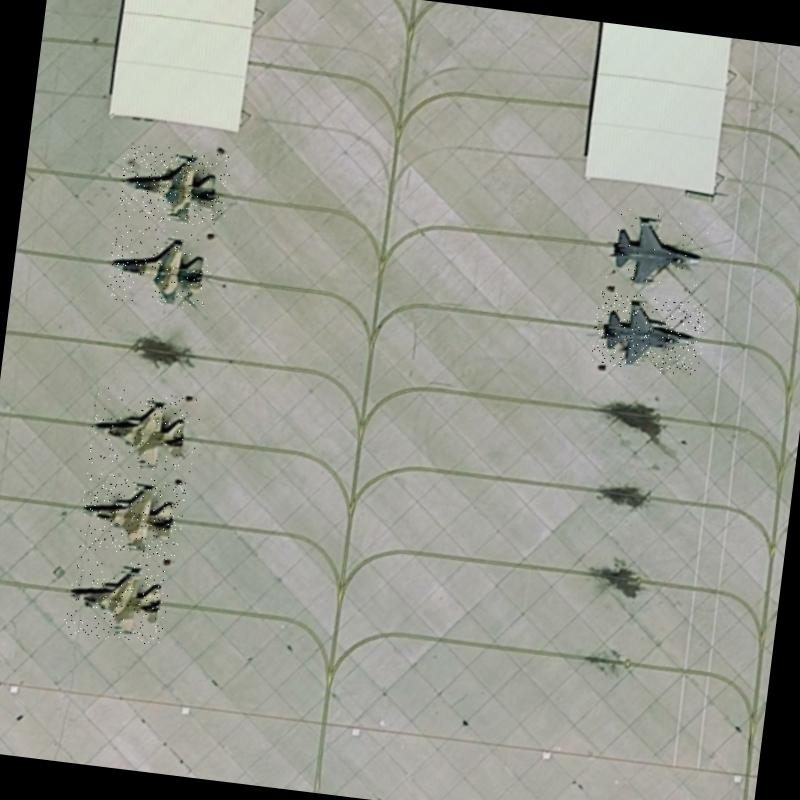A5: (589, 289, 707, 377), (596, 205, 710, 296), (87, 386, 202, 475), (116, 142, 232, 229), (76, 470, 186, 561), (61, 555, 171, 646), (105, 223, 215, 311)
